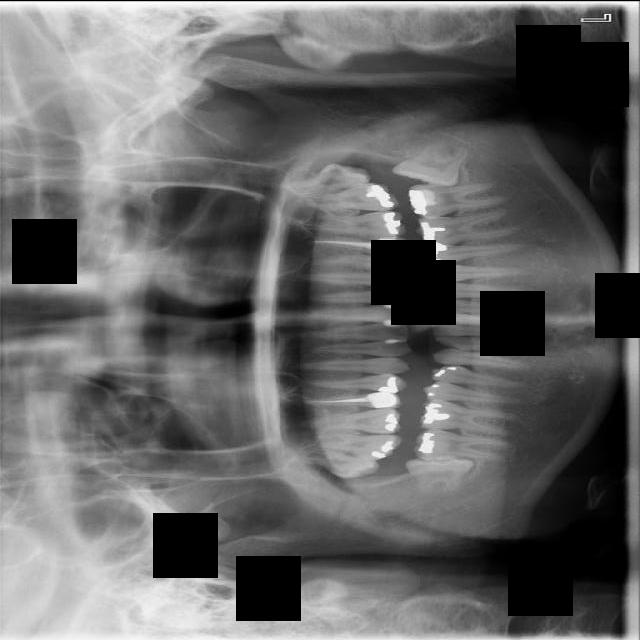3M ESPE Implant: (293, 441, 382, 485)
52: (420, 217, 452, 258), (407, 182, 440, 218), (362, 179, 399, 211), (376, 207, 407, 237), (418, 398, 450, 425), (374, 237, 403, 259), (366, 390, 397, 408), (385, 249, 404, 271), (417, 431, 435, 453), (378, 375, 399, 392), (380, 439, 396, 453), (383, 301, 406, 308), (383, 318, 402, 326), (372, 449, 387, 459), (385, 413, 398, 423), (434, 368, 446, 378), (384, 422, 397, 431), (434, 266, 443, 275), (447, 365, 457, 370), (432, 257, 442, 262), (386, 338, 398, 342), (438, 277, 449, 280), (431, 383, 440, 386), (427, 392, 435, 395)
73: (305, 226, 379, 255), (301, 391, 373, 406), (582, 20, 586, 30)
BioHorizons Implant: (312, 181, 399, 210)
BioLife Implant: (282, 154, 371, 202)
Biomet 3i Implant: (391, 135, 469, 188)
Blue Sky Bio Implant: (408, 177, 511, 220)
Caries: (319, 430, 403, 461)
Implant: (414, 427, 511, 460)
Keystone Dental Implant: (406, 453, 474, 492)
